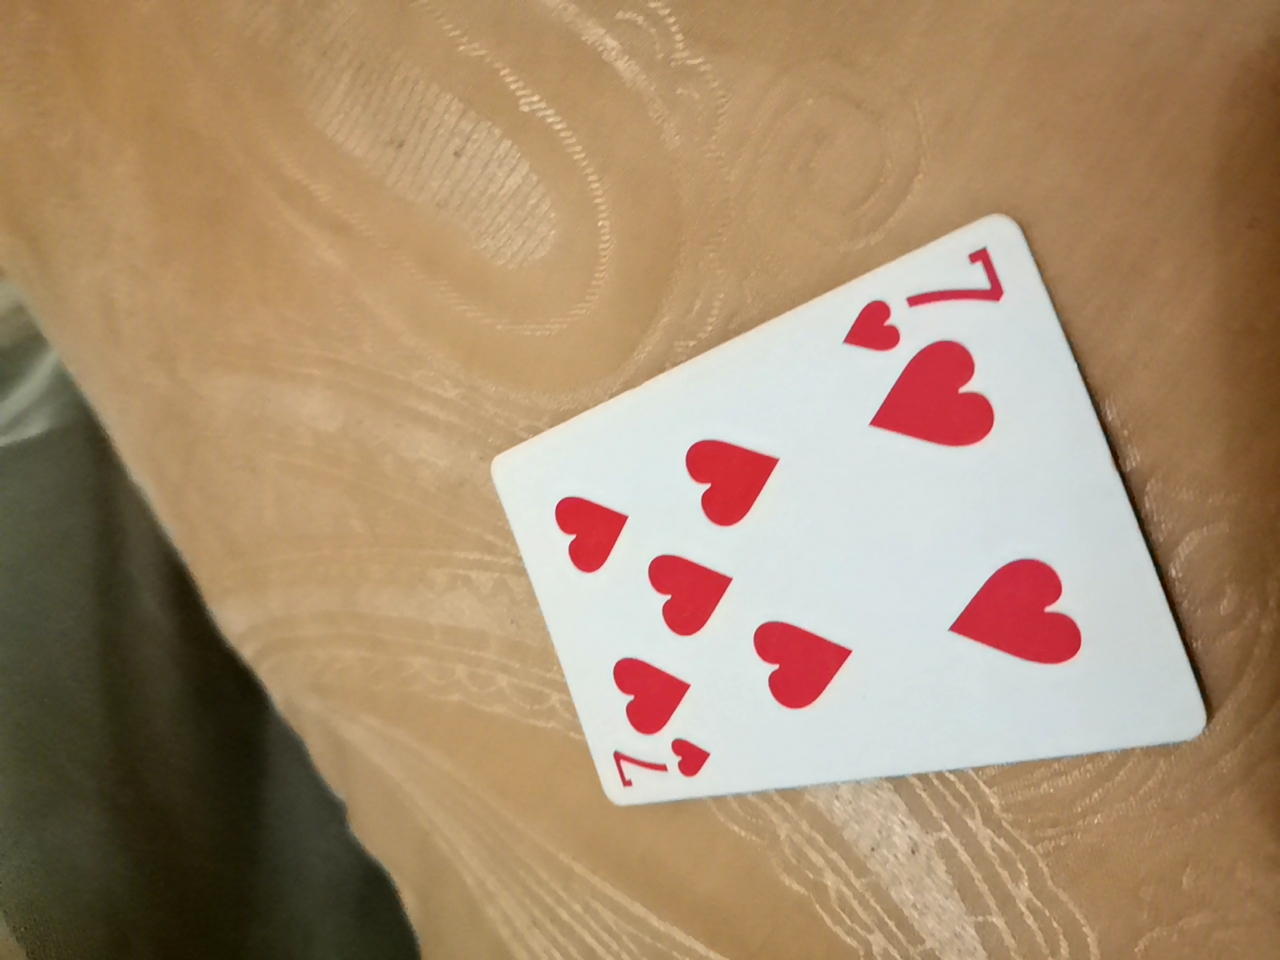hx 7: (470, 200, 1202, 819)
